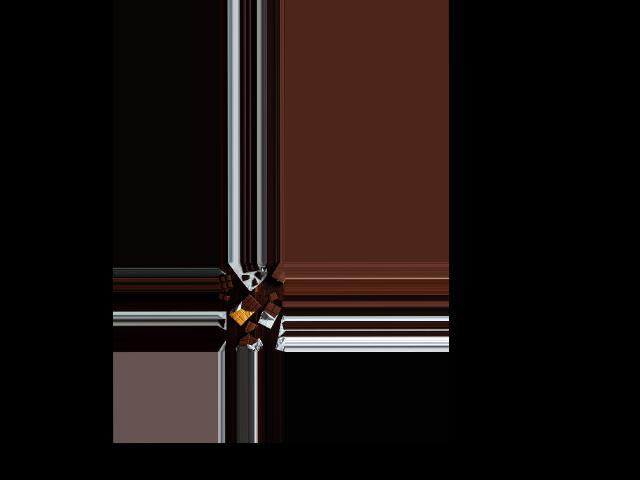chocolate: (256, 301, 283, 327)
